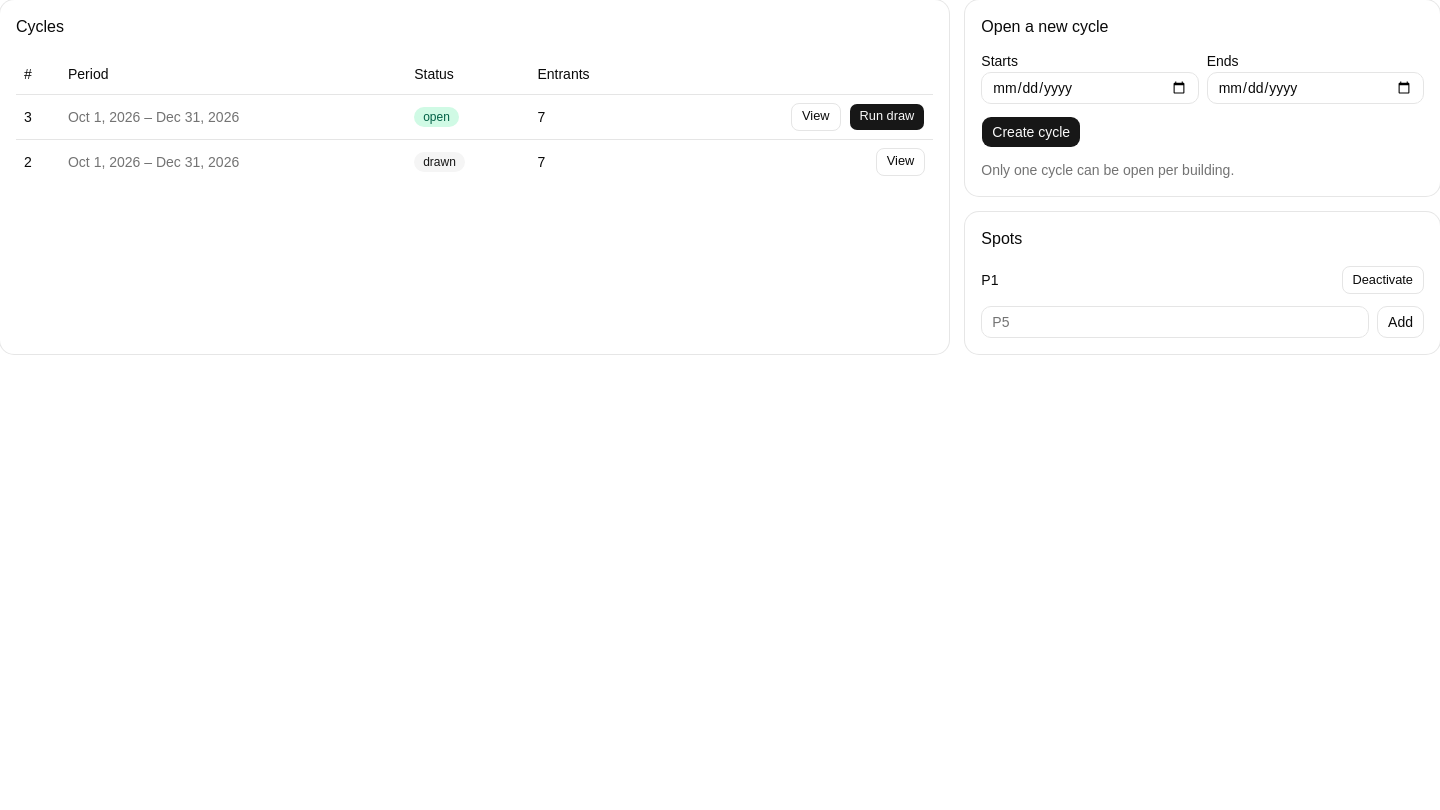
Test: AdminView draw confirmation › closes the dialog with Escape without drawing
The width and height of the screenshot is (1440, 810).
Click the button "Run draw". click: (887, 116)
box: 848,102 -> 925,130
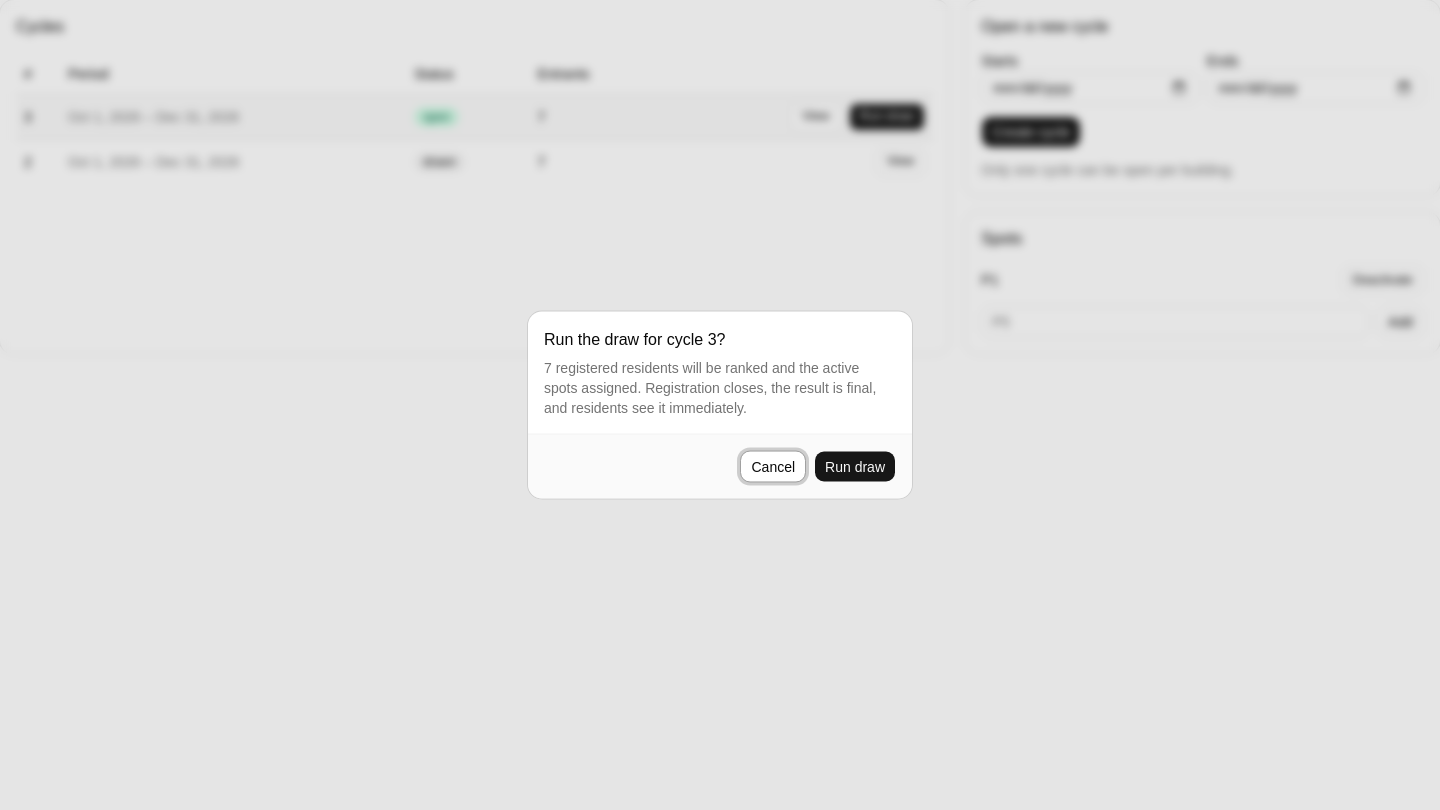
Now the dialog is shown, box 528,312 -> 912,498
Press Escape
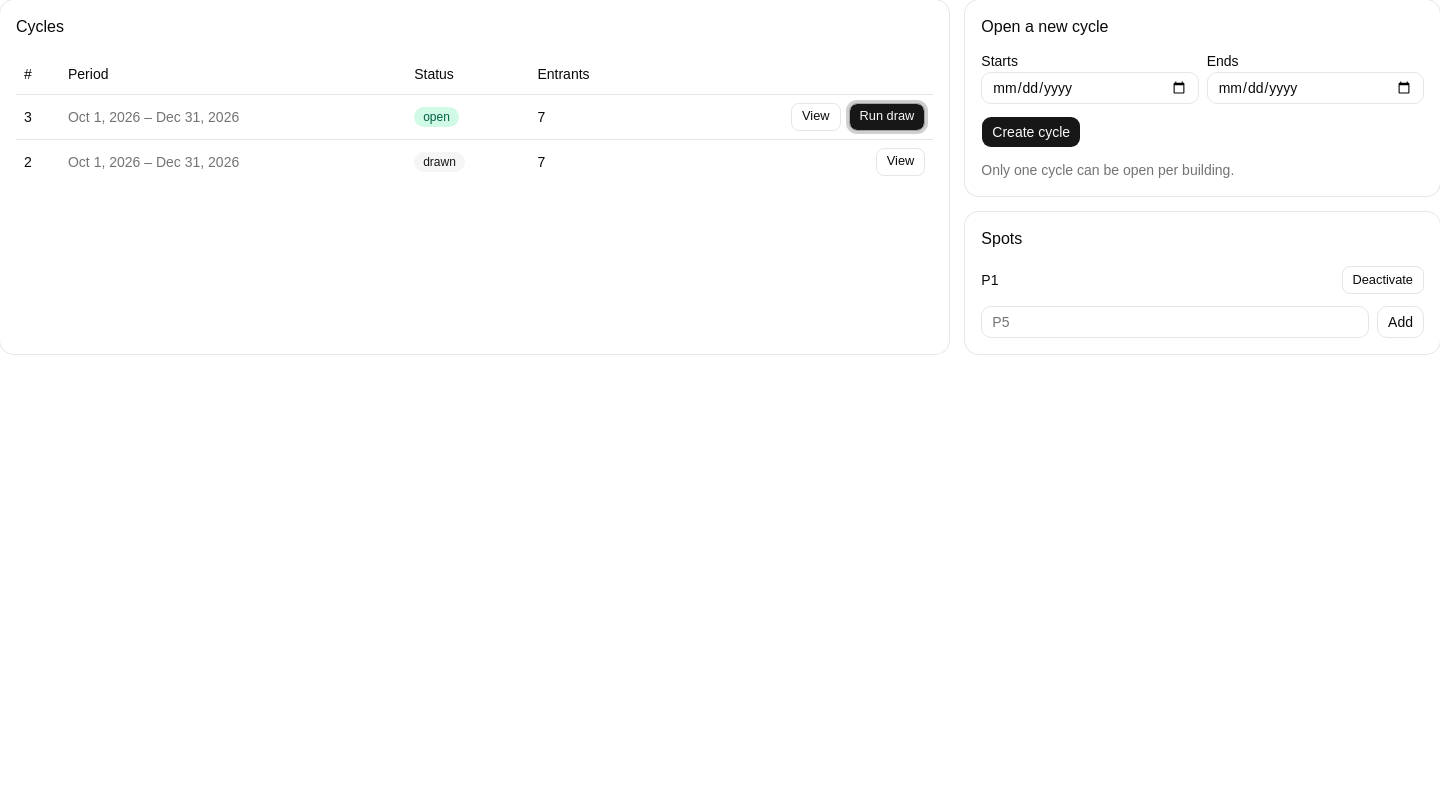
Now the dialog is gone
